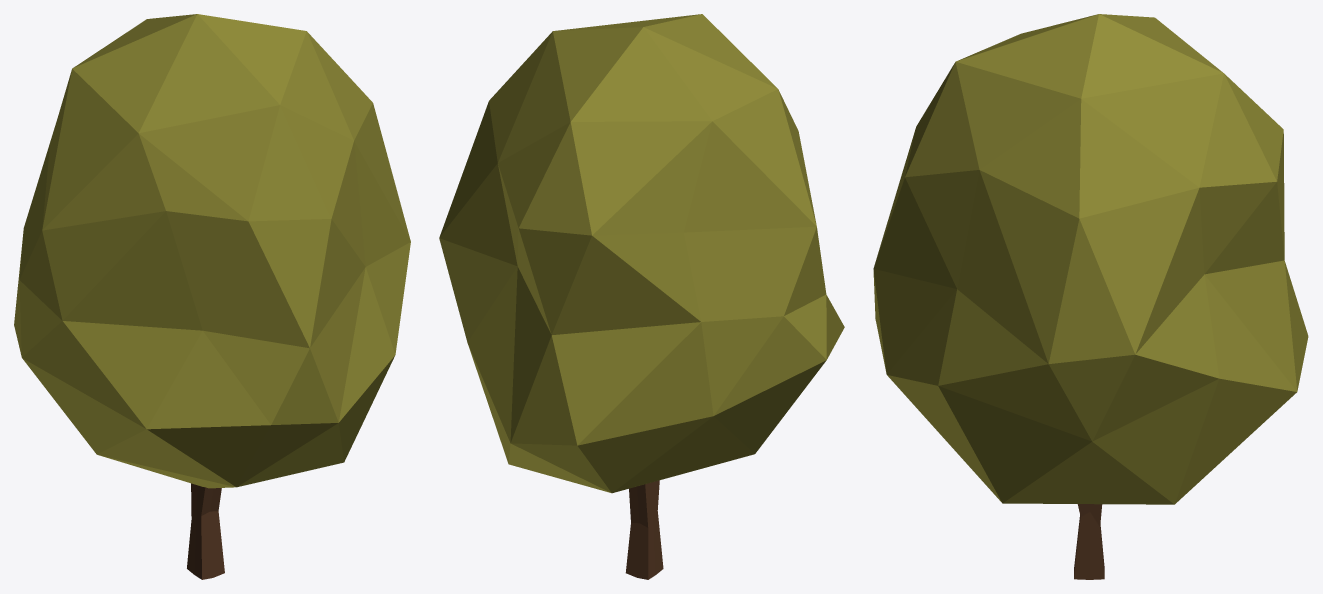
Rendered from Tree_2_Yellow.fbx.
3 renders of one model, left to right at view 1: azimuth 30°, elevation 25°; view 2: azimuth 150°, elevation 25°; view 3: azimuth 270°, elevation 25°, orthographic.
Visible parts, largest first — view 1: Tree_2_Yellow_Part_1, Tree_2_Yellow_Part_2; view 2: Tree_2_Yellow_Part_1, Tree_2_Yellow_Part_2; view 3: Tree_2_Yellow_Part_1, Tree_2_Yellow_Part_2.
Boxes of the visible parts, bbox=[...] form: Tree_2_Yellow_Part_1: bbox=[14, 14, 410, 488]; Tree_2_Yellow_Part_2: bbox=[187, 483, 224, 579]; Tree_2_Yellow_Part_1: bbox=[439, 14, 844, 493]; Tree_2_Yellow_Part_2: bbox=[625, 480, 663, 579]; Tree_2_Yellow_Part_1: bbox=[873, 14, 1308, 504]; Tree_2_Yellow_Part_2: bbox=[1074, 504, 1104, 579].
Bounding box in the file's own units: 550 × 792 × 557.
